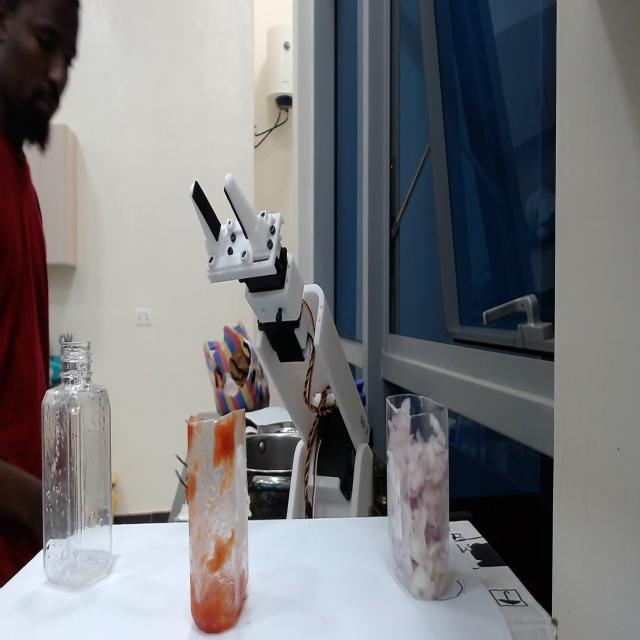blended_pepper: (189, 543, 243, 634)
sliced_onions: (391, 399, 447, 596)
